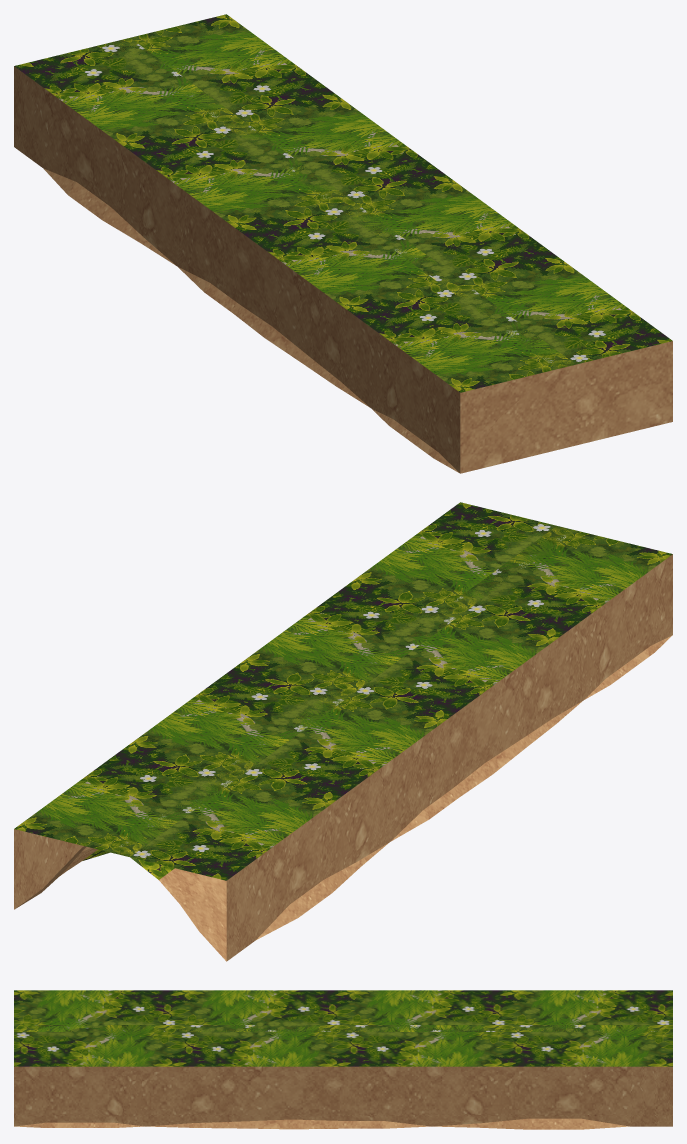
Rendered from 20mslopes.fbx.
The picture shows the model from 3 angles, top to bottom: view 1: azimuth 30°, elevation 25°; view 2: azimuth 150°, elevation 25°; view 3: azimuth 270°, elevation 25°; orthographic projection. The views are drawn at different scales.
Parts seen in each view (by area): view 1: 4x20Slope L, 4x20Slope R; view 2: 4x20Slope L, 4x20Slope R; view 3: 4x20Slope R, 4x20Slope L.
Part boxes in pixels (box(x1,y1,x2,y2)): 4x20Slope L: box(14, 38, 574, 473); 4x20Slope R: box(43, 14, 672, 473); 4x20Slope L: box(16, 526, 672, 961); 4x20Slope R: box(14, 502, 672, 961); 4x20Slope R: box(14, 1025, 672, 1126); 4x20Slope L: box(14, 990, 672, 1129).
Bounding box in the file's own units: 235 × 78.74 × 787.
